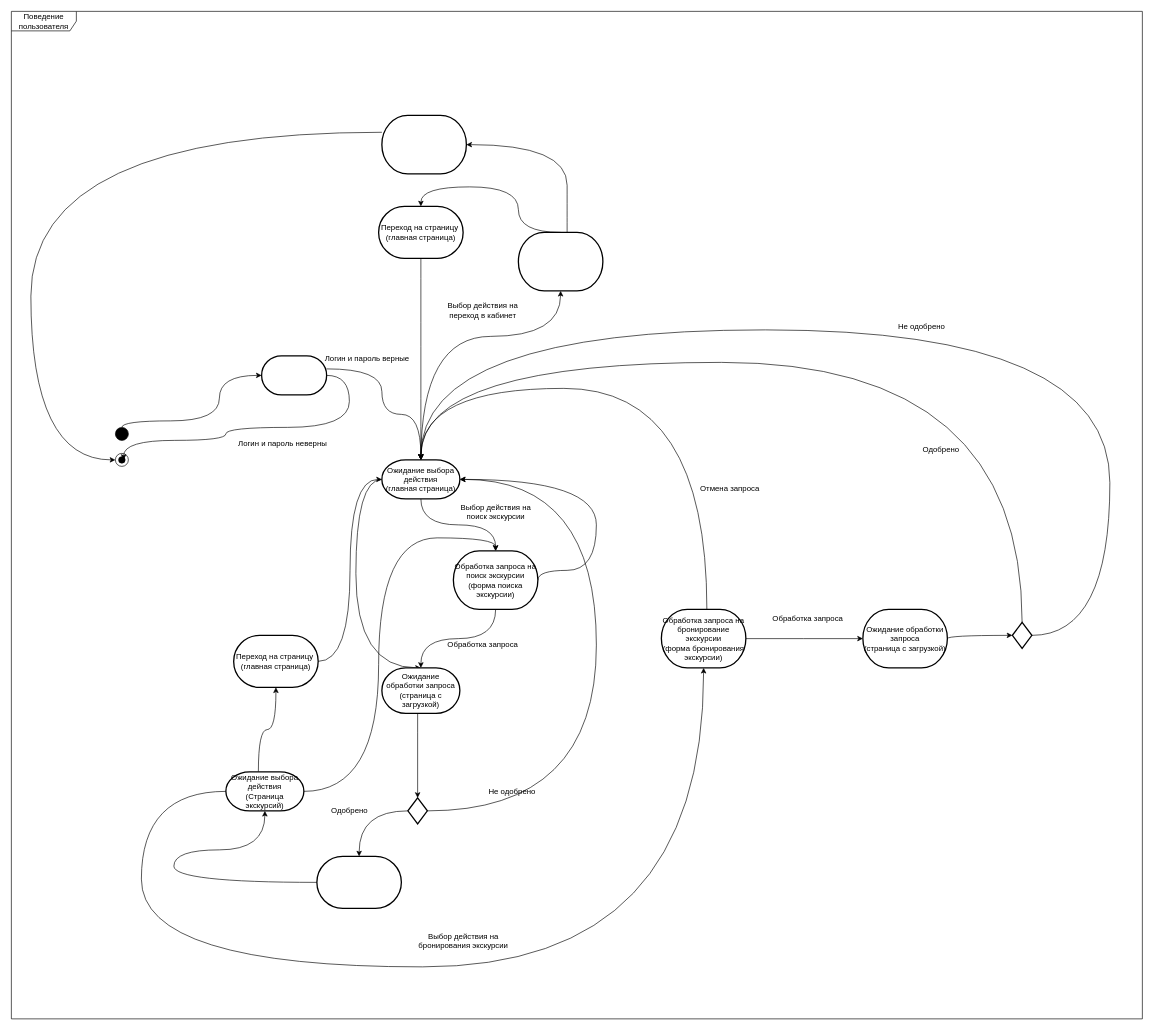
Some shapes in this 1154 by 1030 pixel diagram are drawn without their labels. The centre of each missing label's shape, as x and y in pixels:
Обработка запроса на выход из аккаунта (форма выхода из аккаунта): (424,144)
Ожидание выбора действия (Страница кабинета пользователя): (560,261)
Ожидание логина и пароля (форма авторизации): (294,375)
Переход на страницу результатом поиска: (359,882)
